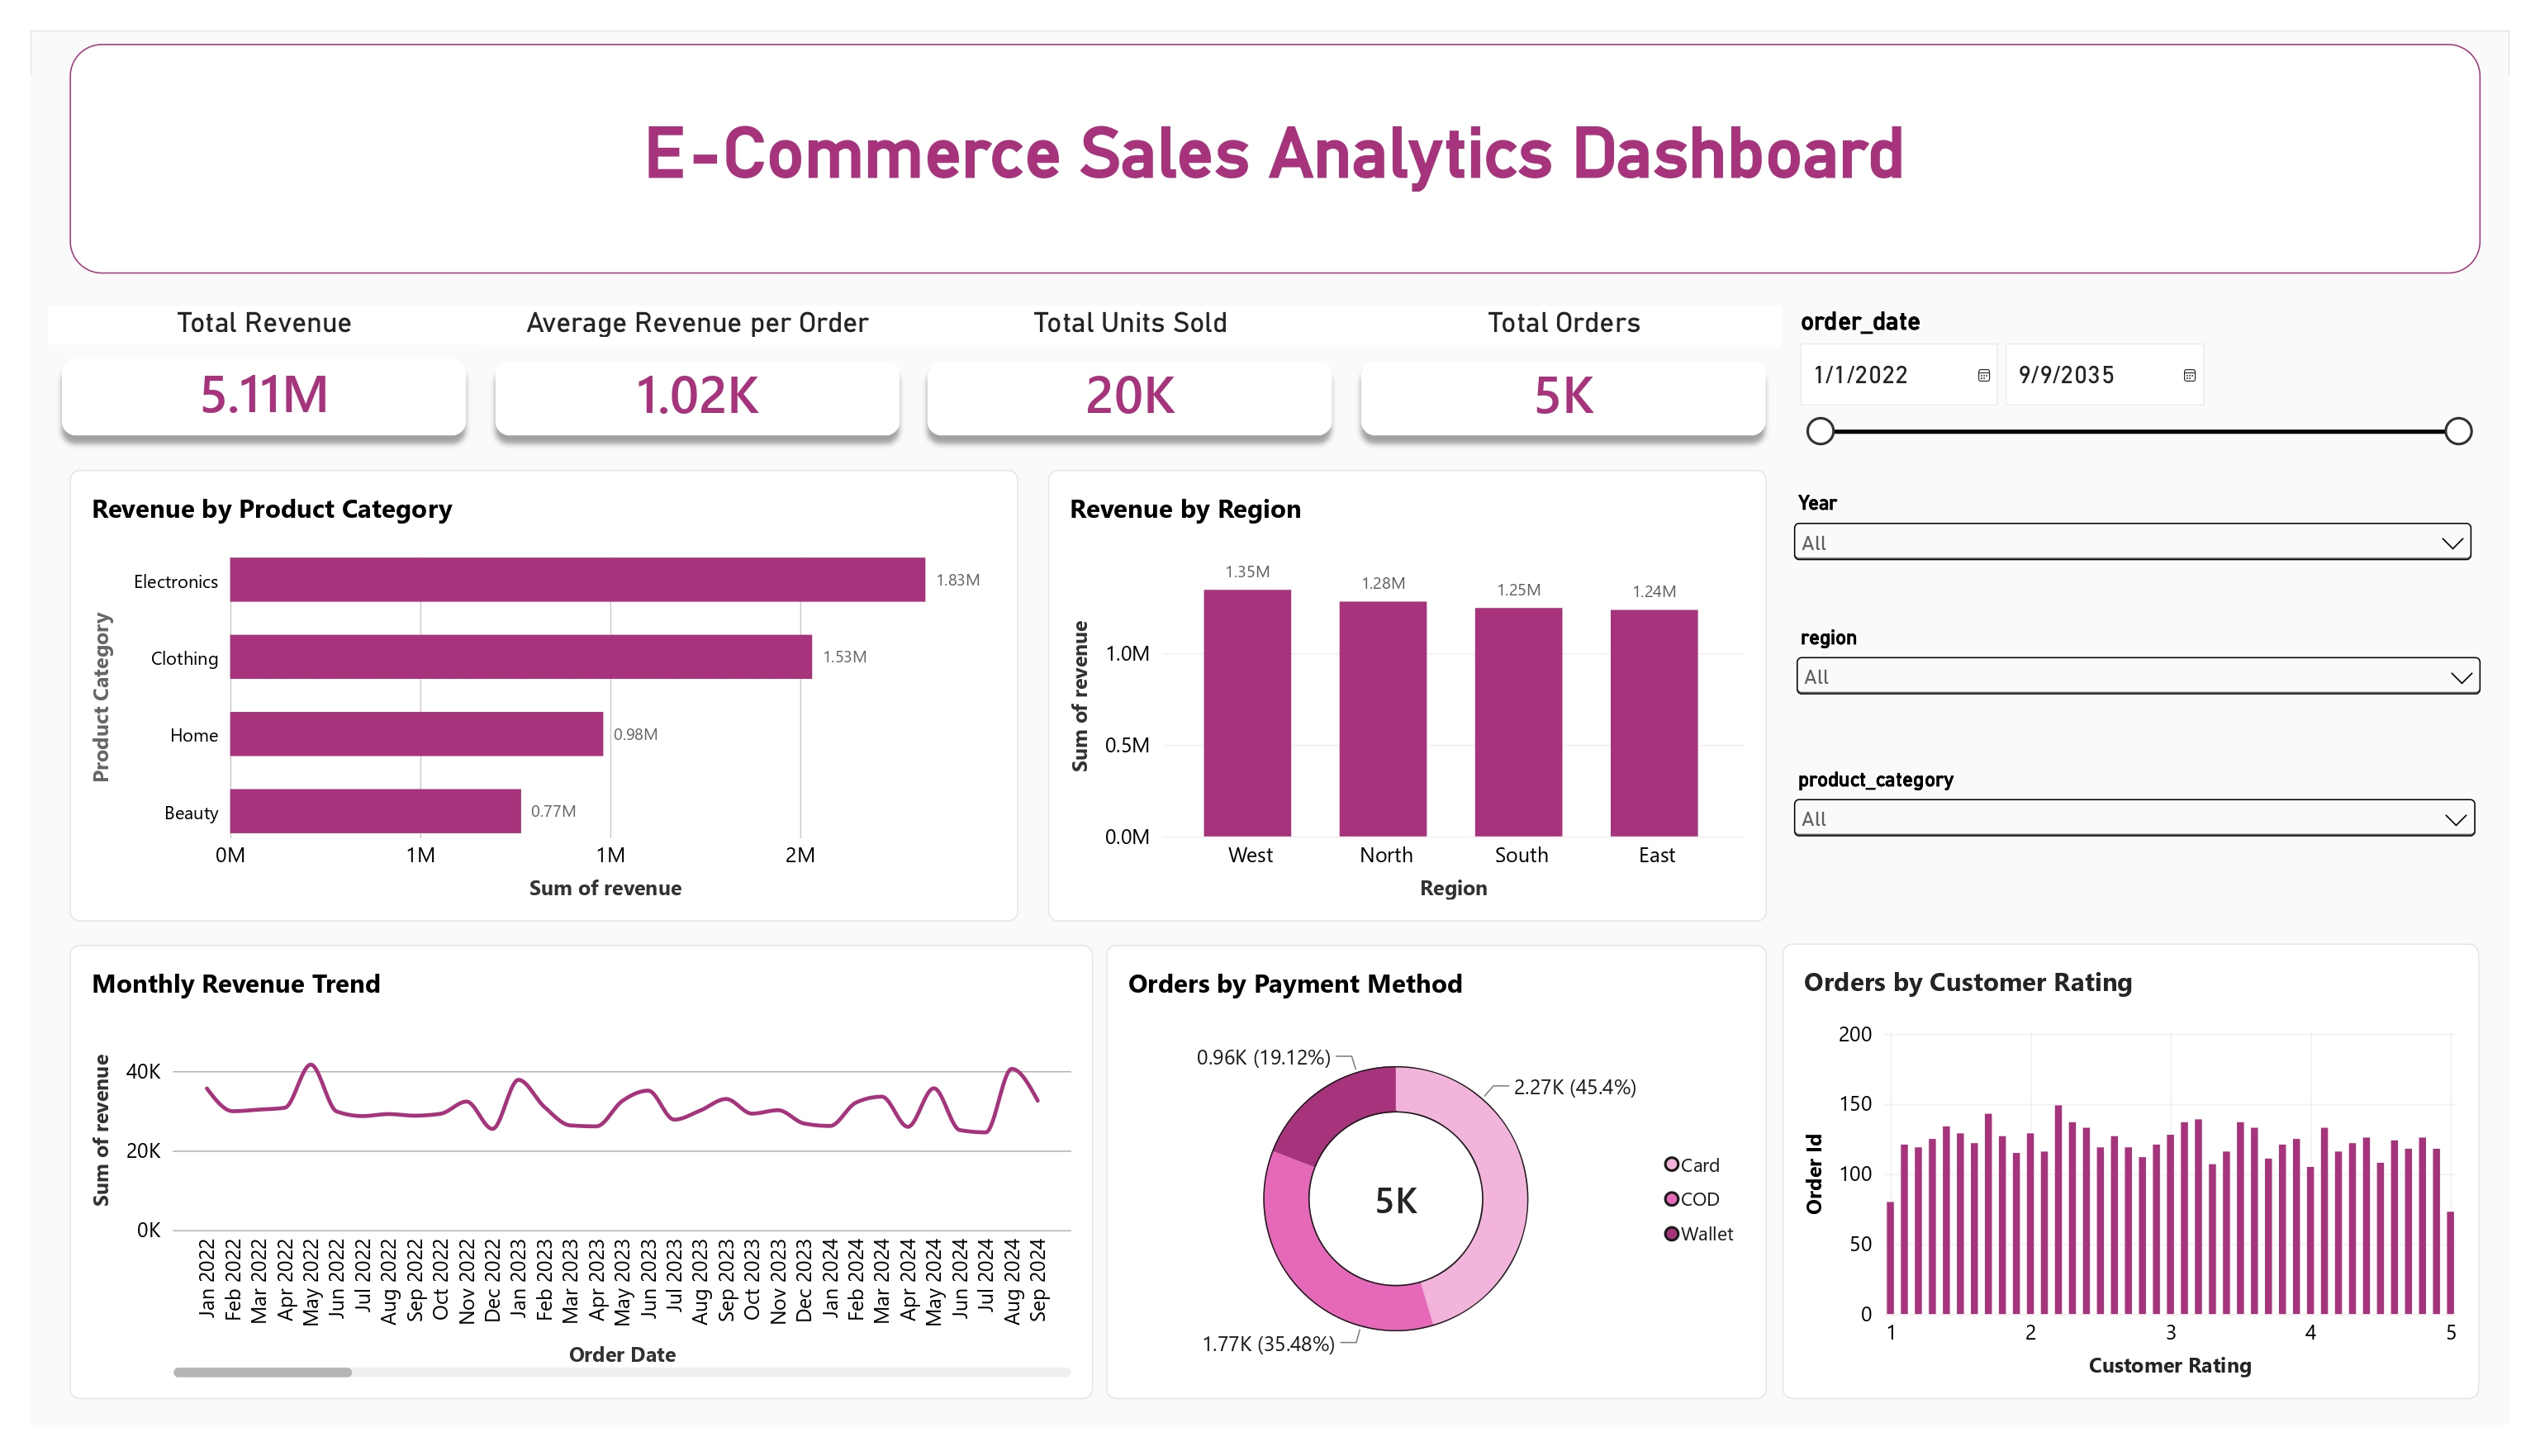

Layout of this report page (visuals, bound fields, positions):
{"tool":"powerbi","page":{"name":"Page 1","canvas":[1920,1080],"ordinal":0},"visuals":[{"type":"cardVisual","title":"Total Revenue","fields":{"Data":["Sum(ecommerce_clean.revenue)"]},"box":[12.9,212.9,335.7,111.4],"z":0},{"type":"cardVisual","title":"Total Orders","fields":{"Data":["Count(ecommerce_clean.order_id)"]},"box":[1020,212.9,335.7,111.4],"z":1000},{"type":"cardVisual","title":"Total Units Sold","fields":{"Data":["Sum(ecommerce_clean.quantity)"]},"box":[684.3,212.9,335.7,111.4],"z":2000},{"type":"cardVisual","title":"Average Revenue per Order","fields":{"Data":["ecommerce_clean.Average Revenue per Order"]},"box":[348.6,212.9,335.7,111.4],"z":3000},{"type":"shape","box":[30,10,1867.5,177.5],"z":4000},{"type":"clusteredBarChart","title":"Revenue by Product Category","fields":{"Category":["ecommerce_clean.product_category"],"Y":["Sum(ecommerce_clean.revenue)"]},"box":[30,340,735,350],"z":5000},{"type":"lineChart","title":"Monthly Revenue Trend","fields":{"Category":["ecommerce_clean.YearMonth"],"Y":["Sum(ecommerce_clean.revenue)"]},"box":[30,707.5,792.5,352.5],"z":6000},{"type":"clusteredColumnChart","title":"Revenue by Region","fields":{"Category":["ecommerce_clean.region"],"Y":["Sum(ecommerce_clean.revenue)"]},"box":[787.5,340,557.5,350],"z":7000},{"type":"donutChart","title":"Orders by Payment Method","fields":{"Category":["ecommerce_clean.payment_method"],"Y":["Count(ecommerce_clean.order_id)"]},"box":[832.5,707.5,512.5,352.5],"z":8000},{"type":"slicer","fields":{"Values":["ecommerce_clean.product_category"]},"box":[1361.4,570,537.1,75.7],"z":9000},{"type":"slicer","fields":{"Values":["ecommerce_clean.region"]},"box":[1362.9,460,540,68.6],"z":10000},{"type":"slicer","fields":{"Values":["ecommerce_clean.order_date"]},"box":[1362.9,212.9,534.3,158.6],"z":11000},{"type":"slicer","fields":{"Values":["ecommerce_clean.order_date.Variation.Date Hierarchy.Year"]},"box":[1361.4,355.7,534.3,70],"z":12000},{"type":"clusteredColumnChart","title":"Orders by Customer Rating","fields":{"Category":["ecommerce_clean.customer_rating"],"Y":["Count(ecommerce_clean.order_id)"]},"box":[1357.1,707.1,540,352.9],"z":12001}]}

Visuals, with their boxes on the page's 1920x1080 design canvas (x1, y1, x2, y2). These are canvas units, not pixel positions in the 2540x1456 screenshot, which may show the page scaled, cropped or inside an application window:
"Total Revenue" cardVisual: [13, 213, 349, 324]
"Total Orders" cardVisual: [1020, 213, 1356, 324]
"Total Units Sold" cardVisual: [684, 213, 1020, 324]
"Average Revenue per Order" cardVisual: [349, 213, 684, 324]
shape: [30, 10, 1898, 188]
"Revenue by Product Category" clusteredBarChart: [30, 340, 765, 690]
"Monthly Revenue Trend" lineChart: [30, 708, 822, 1060]
"Revenue by Region" clusteredColumnChart: [788, 340, 1345, 690]
"Orders by Payment Method" donutChart: [832, 708, 1345, 1060]
slicer - ecommerce_clean.product_category: [1361, 570, 1898, 646]
slicer - ecommerce_clean.region: [1363, 460, 1903, 529]
slicer - ecommerce_clean.order_date: [1363, 213, 1897, 372]
slicer - ecommerce_clean.order_date.Variation.Date Hierarchy.Year: [1361, 356, 1896, 426]
"Orders by Customer Rating" clusteredColumnChart: [1357, 707, 1897, 1060]
